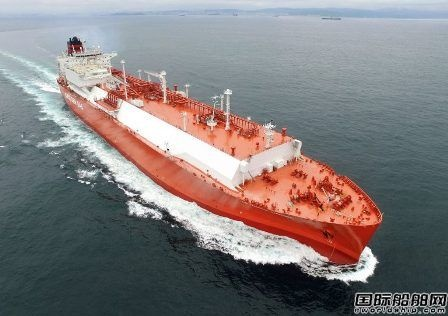Cargoship: (51, 30, 386, 270)
